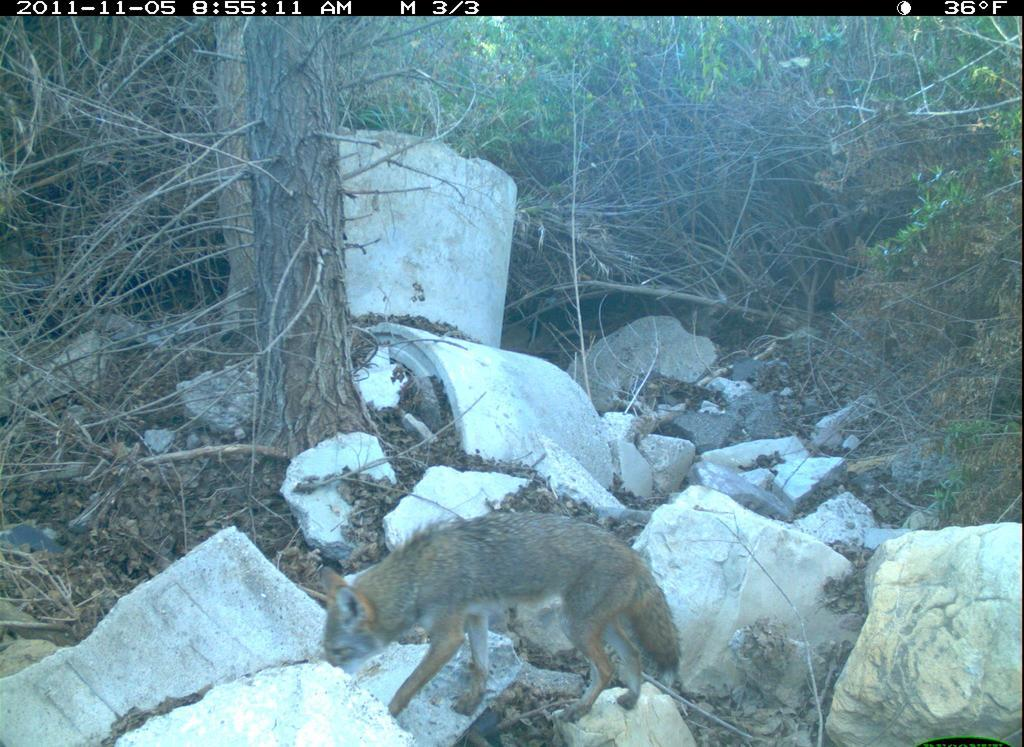coyote: (305, 501, 690, 728)
